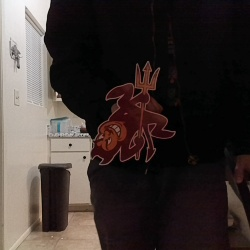sparky: (88, 60, 175, 165)
